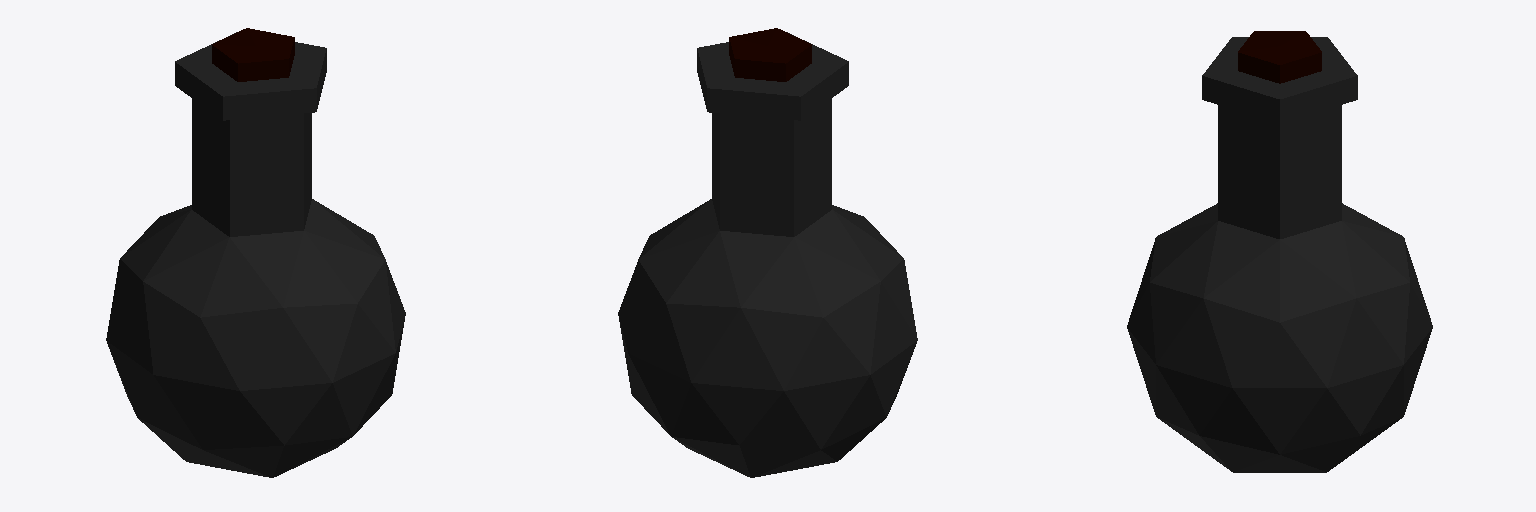
The model's file is potion.obj.
3 renders of one model, left to right at view 1: azimuth 30°, elevation 25°; view 2: azimuth 150°, elevation 25°; view 3: azimuth 270°, elevation 25°, orthographic.
Visible parts, largest first — view 1: Jar; view 2: Jar; view 3: Jar.
Part boxes in pixels (x1,y1,x2,y2): Jar: (106, 28, 405, 477); Jar: (618, 28, 917, 477); Jar: (1127, 31, 1432, 472).
Size of the model in its own units: 1.9 by 3.02 by 2.